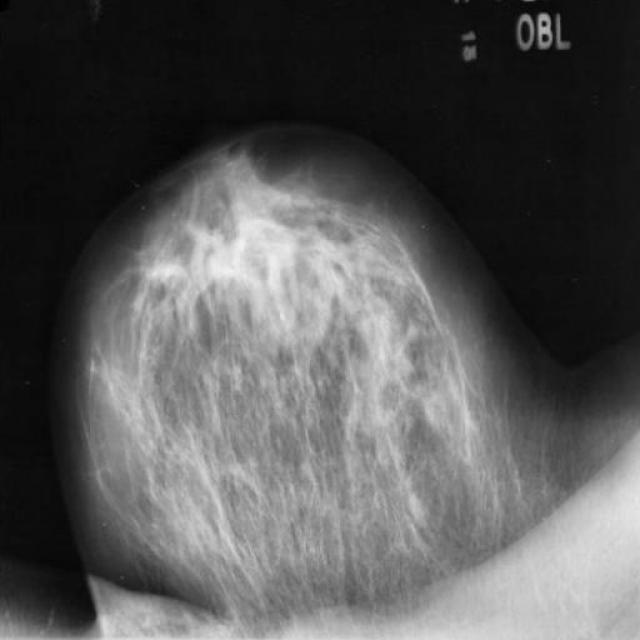cancer: (349, 264, 398, 344)
